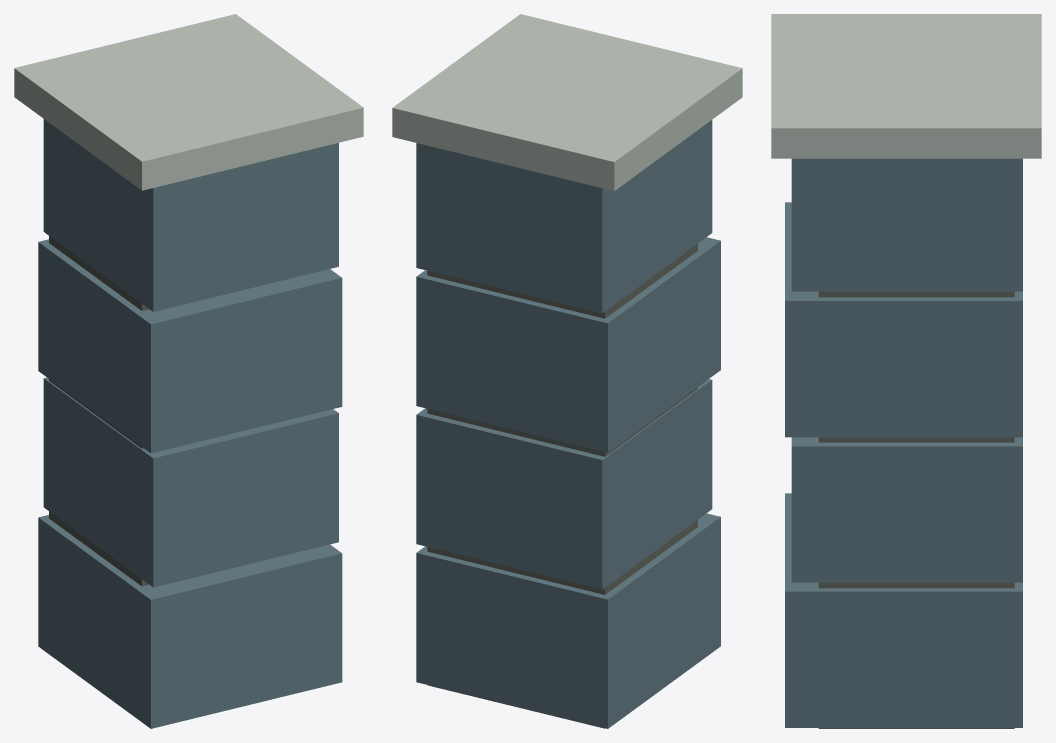
Rendered from retaining_end_2.glb.
3 views of the same model, side by side, from view 1: azimuth 30°, elevation 25°; view 2: azimuth 150°, elevation 25°; view 3: azimuth 270°, elevation 25° (orthographic). The views are drawn at different scales.
Parts seen in each view (by area): view 1: RetainingEnd2 / Stone, RetainingEnd2 / Coping, RetainingEnd2 / Rock; view 2: RetainingEnd2 / Stone, RetainingEnd2 / Coping, RetainingEnd2 / Rock; view 3: RetainingEnd2 / Stone, RetainingEnd2 / Coping, RetainingEnd2 / Rock.
Part boxes in pixels (left/top/right/bottom): RetainingEnd2 / Stone: left=38, top=119, right=342, bottom=728; RetainingEnd2 / Coping: left=14, top=14, right=363, bottom=190; RetainingEnd2 / Rock: left=49, top=236, right=148, bottom=586; RetainingEnd2 / Stone: left=416, top=120, right=720, bottom=728; RetainingEnd2 / Coping: left=392, top=14, right=742, bottom=190; RetainingEnd2 / Rock: left=427, top=243, right=697, bottom=728; RetainingEnd2 / Stone: left=785, top=158, right=1022, bottom=727; RetainingEnd2 / Coping: left=771, top=14, right=1041, bottom=158; RetainingEnd2 / Rock: left=818, top=291, right=1014, bottom=728.
Size of the model in its own units: 0.8 by 2 by 0.8.
